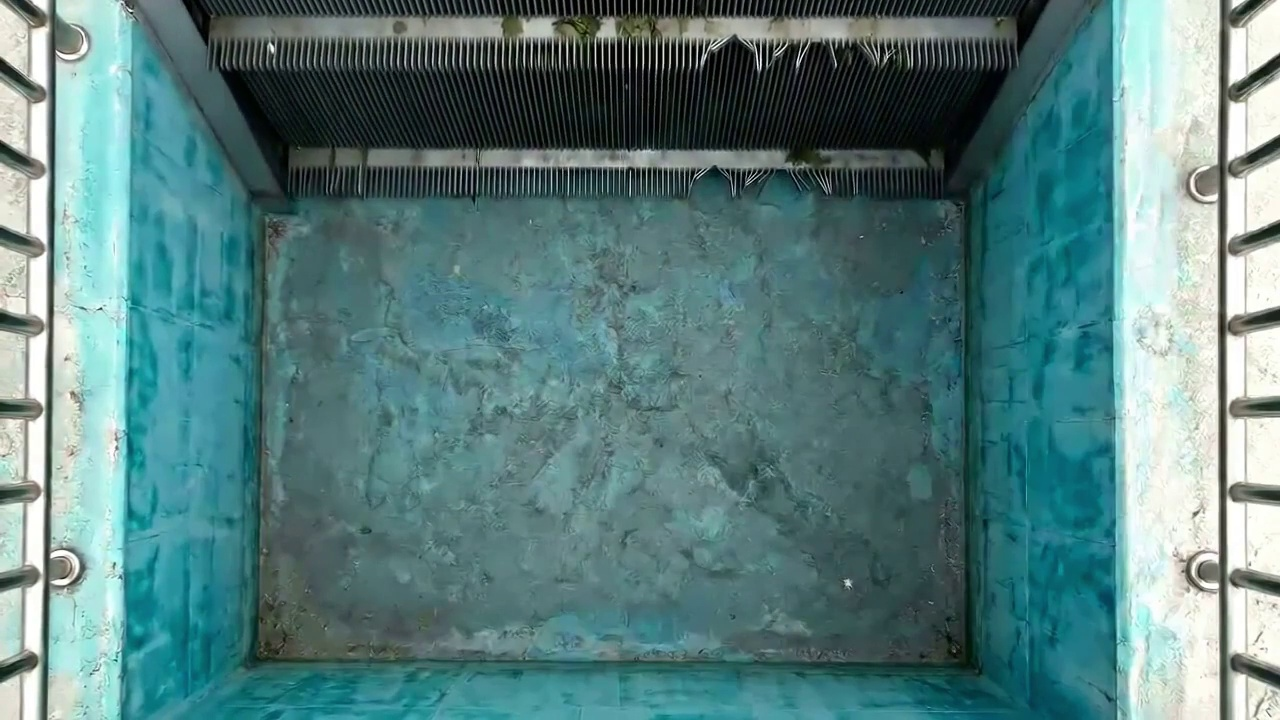damage: (694, 28, 902, 80), (671, 159, 868, 202)
